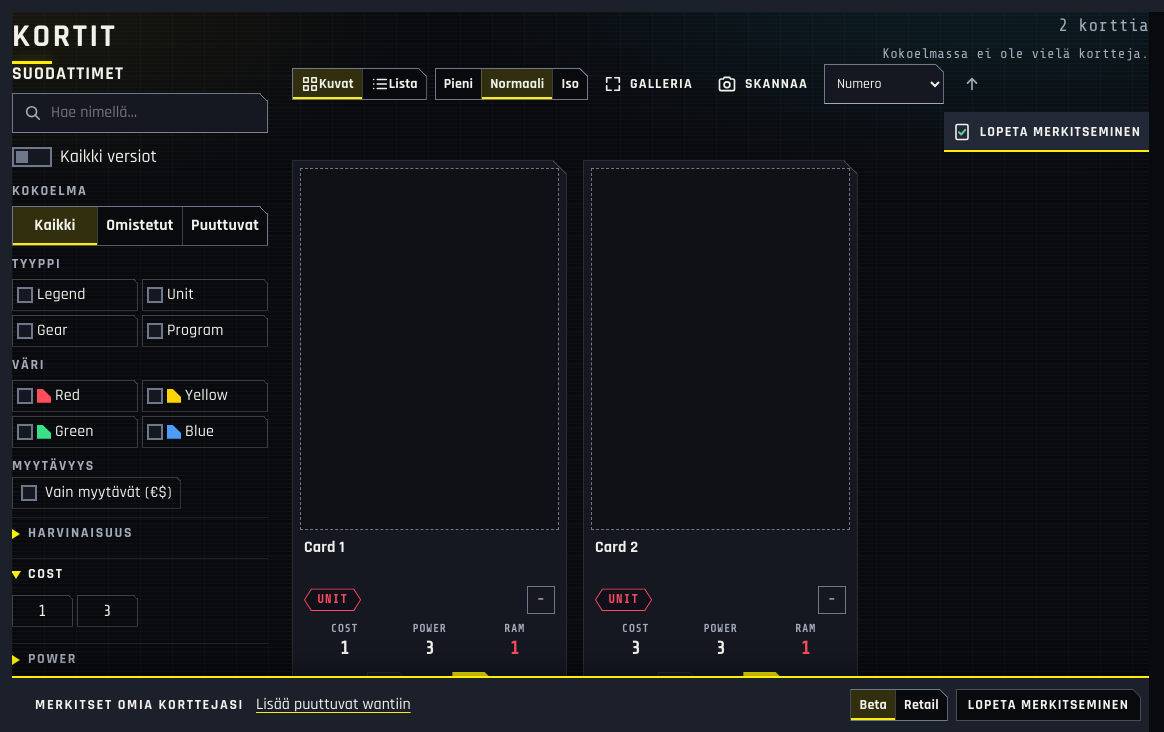
Test: CatalogView filter groups (T-181) › opens a group that has a choice and counts the choices in its title
Click the checkbox labelled "1": click(42, 611) [12,595,73,627]
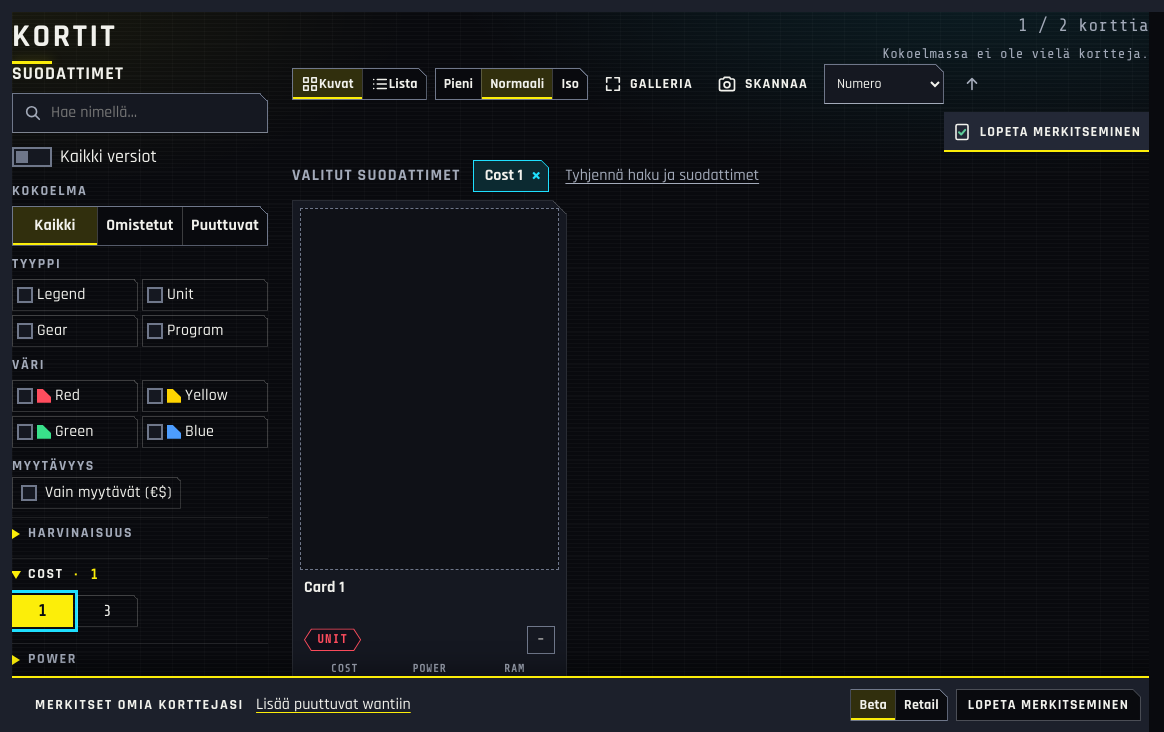
Click the checkbox labelled "3": click(108, 611) [77,595,138,627]
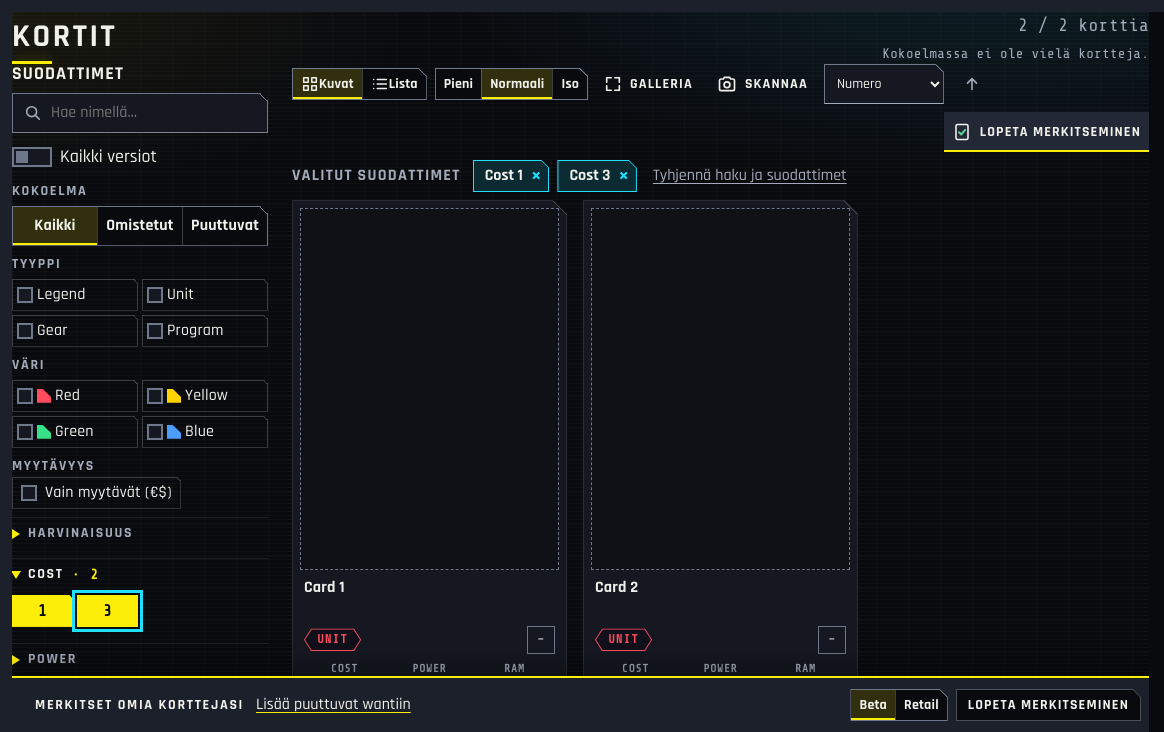
Check: the heading "Cost · 2" is shown, box [28,565,100,583]
